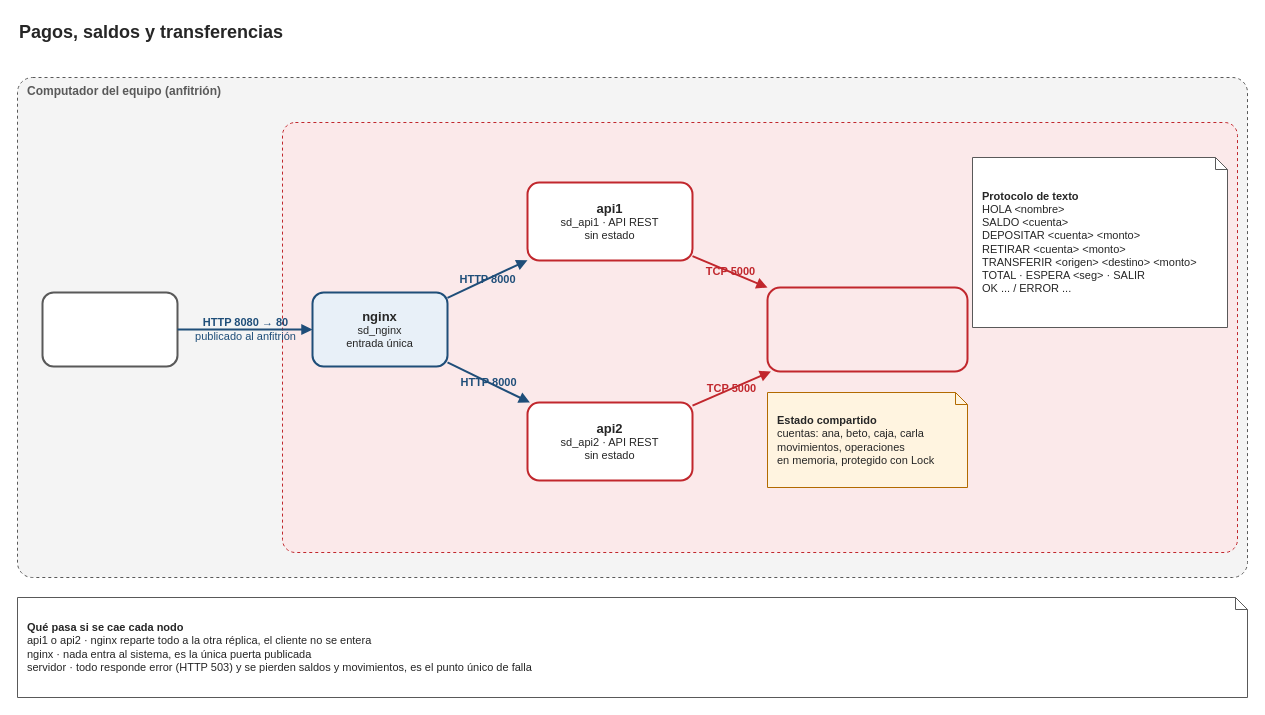
The diagram is 1265 pixels wide and 715 high, and some of its shapes have lost their labels. Each missing label, with the box of its shape:
navegador o cliente_http.py: (41, 291, 178, 367)
Red Docker sd_net: (282, 122, 1238, 552)
servidor sd_servidor · servidor.py hilo por cliente: (766, 286, 968, 372)
